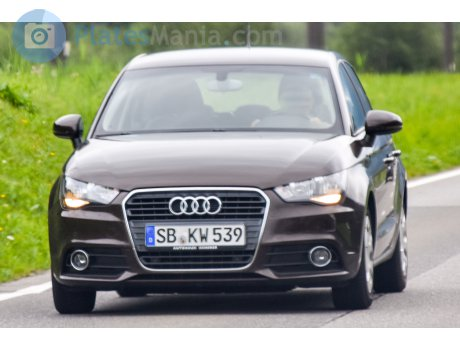License Plates: (155, 224, 243, 245)
